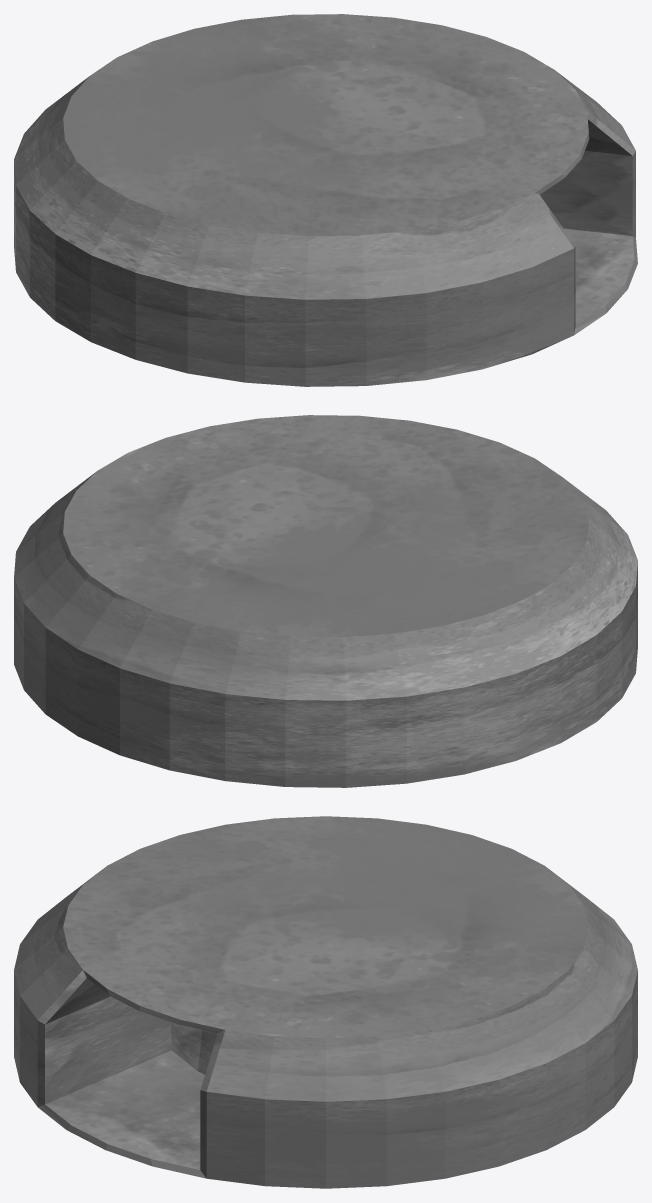
File: Estatua_base_1.glb
The picture shows the model from 3 angles, top to bottom: view 1: azimuth 30°, elevation 25°; view 2: azimuth 150°, elevation 25°; view 3: azimuth 270°, elevation 25°; orthographic projection.
Visible parts, largest first — view 1: F_estatua_base1; view 2: F_estatua_base1; view 3: F_estatua_base1.
Boxes of the visible parts, left/top/right/bottom form: F_estatua_base1: left=14, top=14, right=637, bottom=386; F_estatua_base1: left=14, top=415, right=637, bottom=787; F_estatua_base1: left=14, top=816, right=637, bottom=1188.
Bounding box in the file's own units: 5.78 × 1.32 × 5.78.
Materials: 1 (1 with a texture image).
